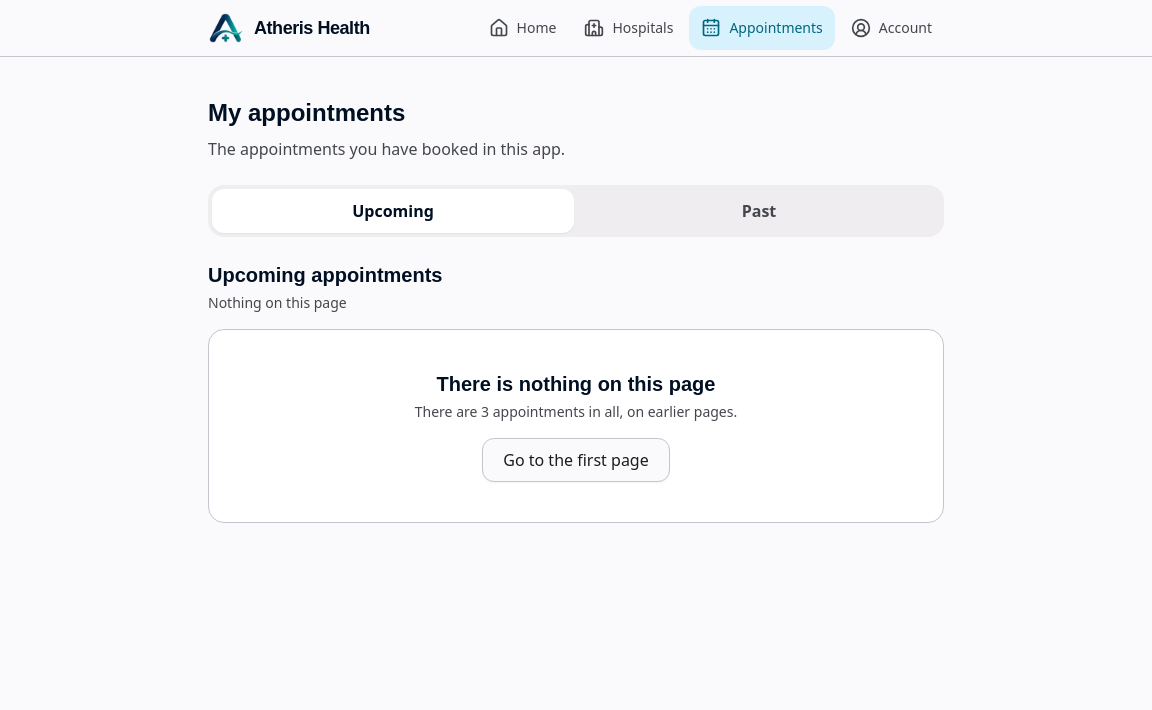
Test case: my appointments — pagination › BEYOND THE END — says the page is empty, how many there are, and leads back to the first
Expected: the text "There is nothing on this page" is shown, [415,370,737,398]
Expected: the text "There are 3 appointments in all, on earlier pages." is shown, [415,402,737,422]
Click the button "Go to the first page".
click(576, 460)  # box [482,438,670,482]
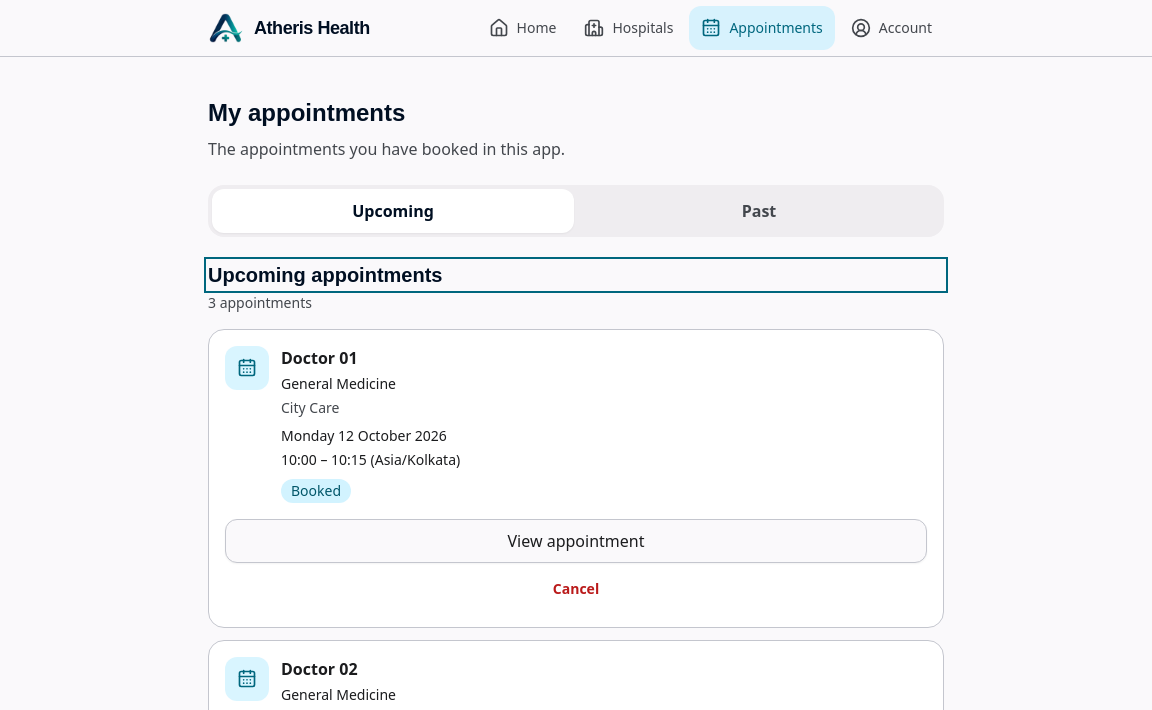
Now the list item "Doctor 01" is shown, box [208,329,944,628]
